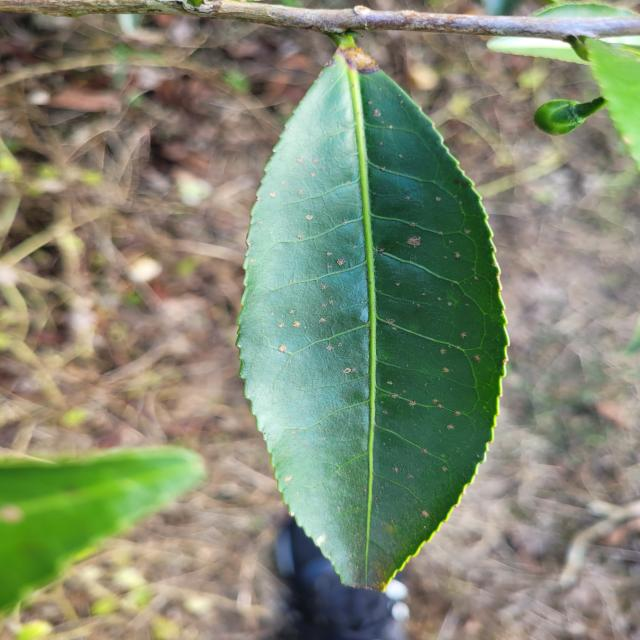Category D(7+ days, Not for Tea): (216, 23, 536, 611)
